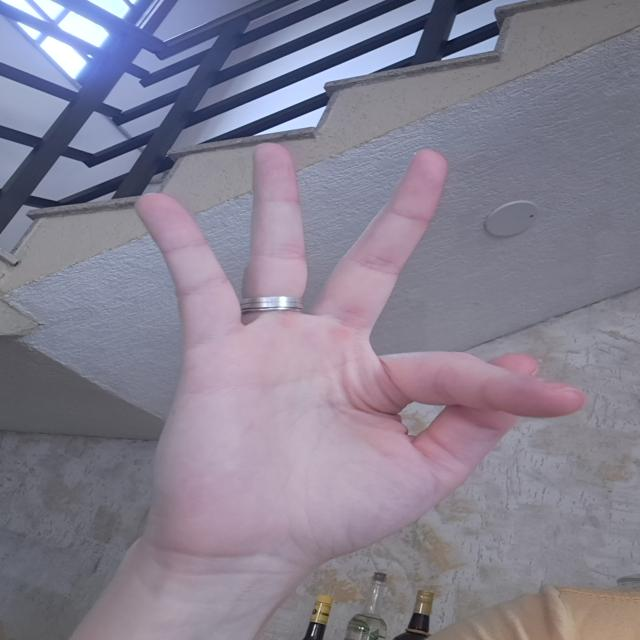F: (115, 118, 599, 564)
